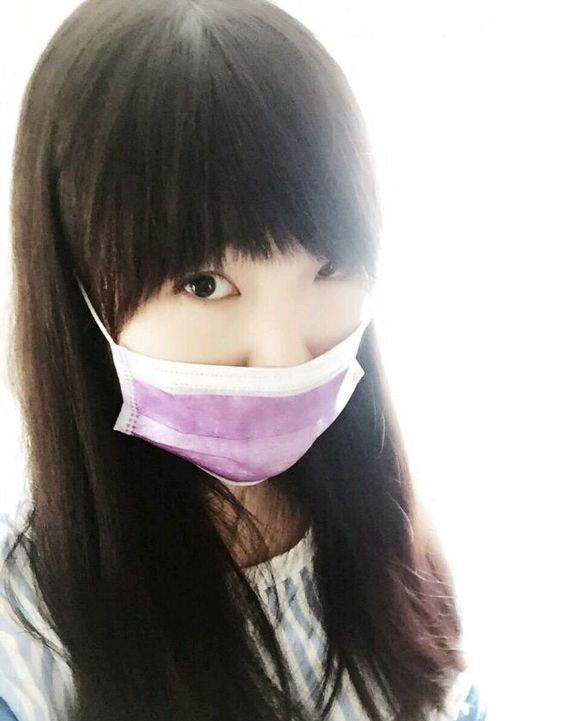WRONG: (104, 211, 380, 487)
